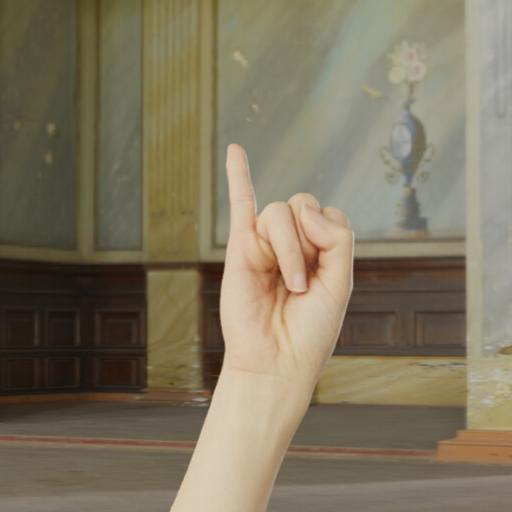I: (211, 130, 368, 405)
